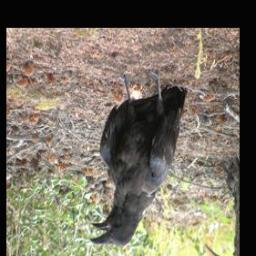Crow: (89, 67, 189, 248)
